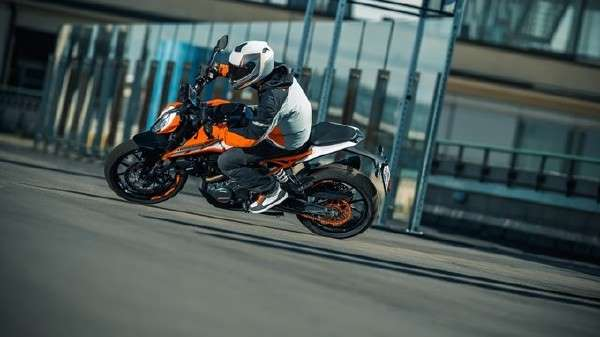helmet: (189, 37, 309, 202)
